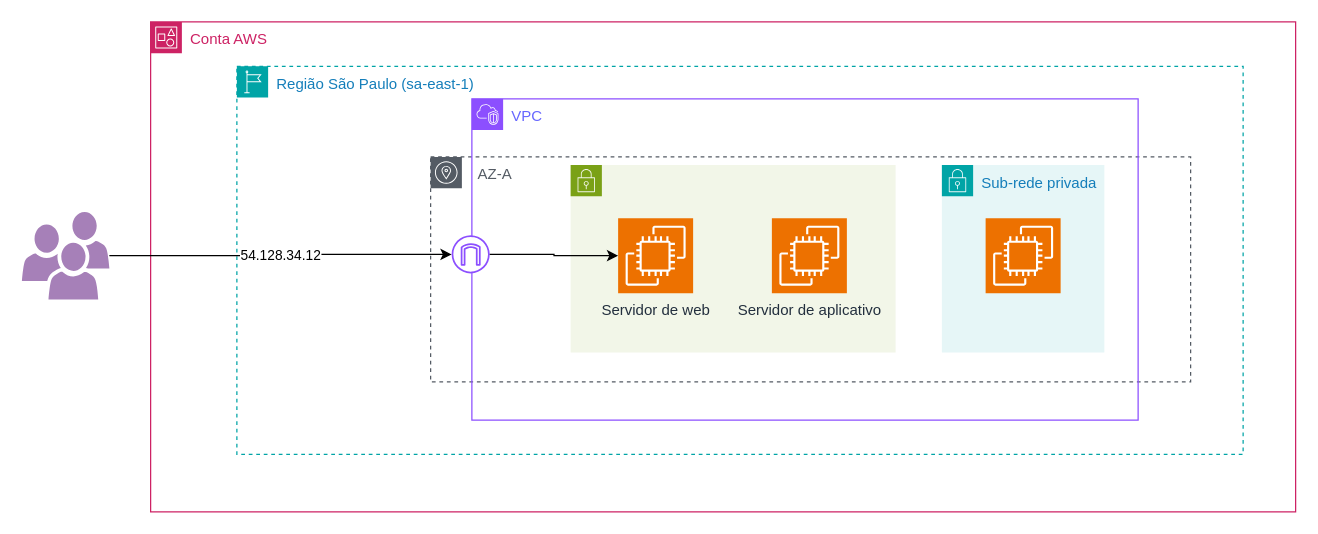
The diagram is 1318 pixels wide and 534 high, and some of its shapes have lost their labels. The box of each missing label's shape, as (x1, y1, x2, y2) in pixels:
Servidor de banco de dados: (984, 217, 1061, 293)
Sub-rede pública: (569, 164, 896, 352)
Usuários: (21, 211, 109, 299)
